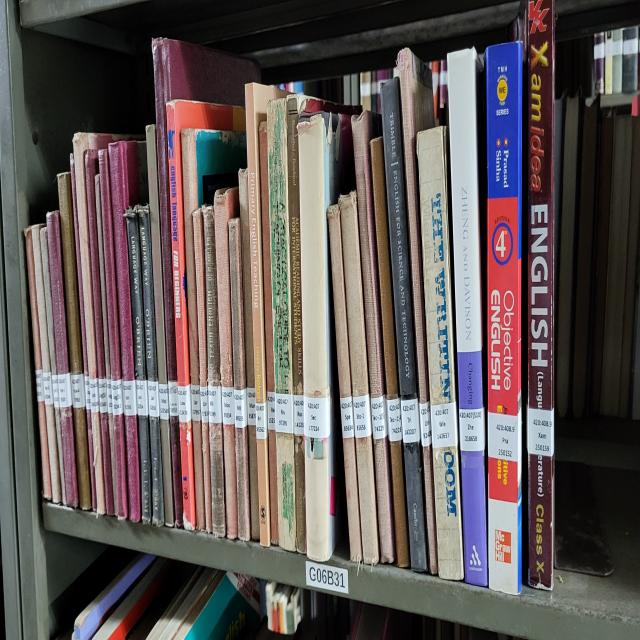Book: (151, 38, 260, 384), (166, 100, 246, 530), (416, 127, 464, 579), (398, 49, 438, 574), (449, 49, 488, 587), (485, 41, 522, 593), (351, 111, 395, 563), (298, 114, 342, 563), (268, 95, 308, 552), (370, 138, 410, 568), (526, 0, 554, 590), (245, 84, 280, 547), (339, 192, 379, 565), (72, 133, 109, 514), (109, 141, 141, 522), (328, 206, 362, 563), (381, 81, 418, 400), (146, 124, 175, 528), (58, 173, 91, 509), (99, 149, 128, 519), (85, 149, 114, 514), (46, 211, 79, 506), (181, 130, 205, 530), (286, 97, 306, 552), (214, 187, 239, 538), (125, 208, 152, 522), (259, 122, 279, 544), (31, 225, 61, 503), (139, 206, 165, 525), (239, 168, 260, 541), (95, 176, 118, 514), (202, 206, 225, 536), (24, 227, 51, 501), (40, 227, 66, 503), (229, 216, 250, 541), (192, 208, 212, 533)
Label: (488, 411, 521, 463), (528, 406, 554, 457), (431, 400, 458, 449), (304, 395, 330, 438), (459, 409, 485, 452), (401, 398, 420, 444), (352, 395, 371, 438), (371, 395, 388, 441), (275, 392, 294, 433), (386, 398, 402, 441), (340, 395, 355, 438), (122, 379, 138, 417), (419, 400, 431, 446), (71, 373, 86, 409), (208, 384, 221, 425), (135, 379, 149, 417), (221, 387, 235, 425), (234, 390, 248, 427), (58, 373, 72, 409), (111, 379, 124, 417), (178, 384, 191, 422), (292, 395, 304, 436), (292, 395, 304, 436), (255, 403, 268, 438), (148, 381, 160, 417), (42, 371, 54, 406), (246, 387, 256, 427), (168, 381, 179, 417), (89, 379, 100, 414), (191, 384, 201, 422), (159, 384, 169, 419), (200, 384, 209, 422), (36, 368, 45, 403), (99, 379, 108, 414), (51, 373, 59, 411), (268, 392, 275, 430)
